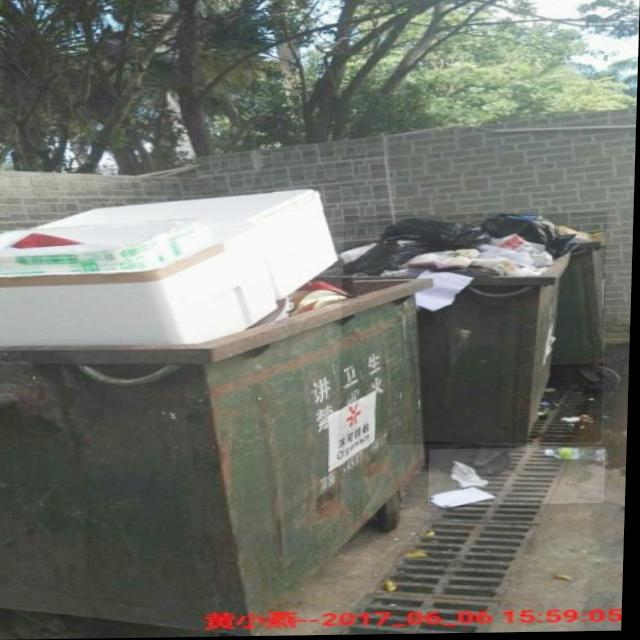garbage: (431, 449, 608, 507)
overflow: (0, 185, 435, 636), (340, 214, 609, 447)
